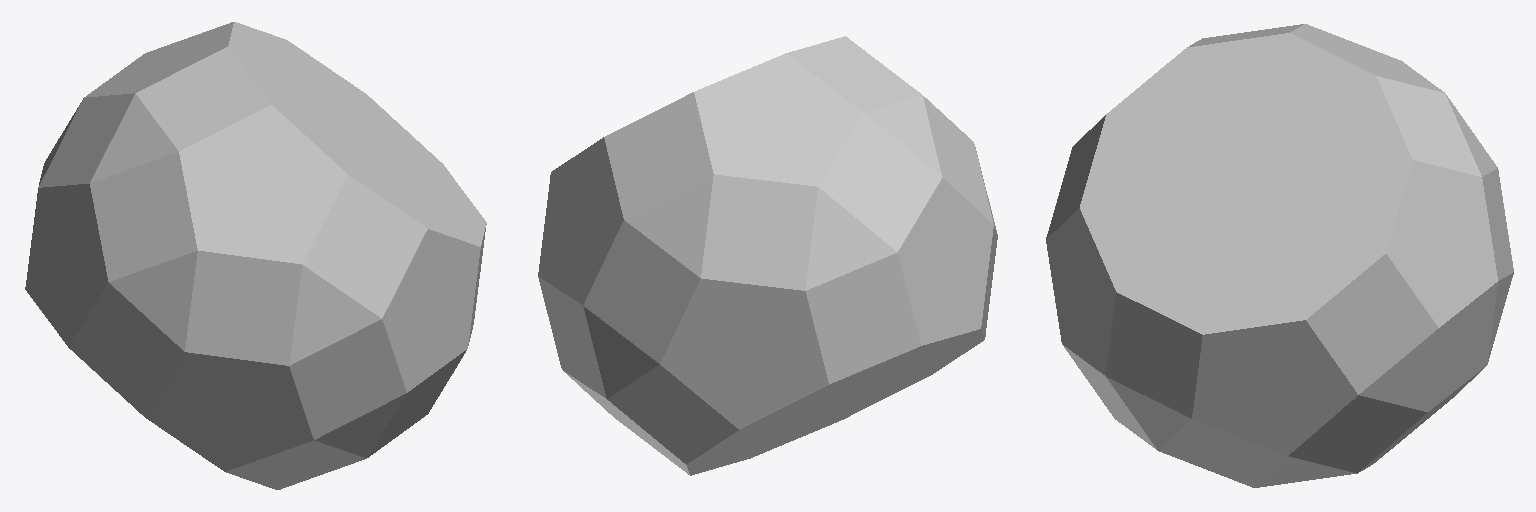
The model's file is ParabiDiminishedRhombIcosiDodecahedron.obj.
3 renders of one model, left to right at view 1: azimuth 30°, elevation 25°; view 2: azimuth 150°, elevation 25°; view 3: azimuth 270°, elevation 25°, orthographic.
Parts seen in each view (by area): view 1: ParaBiDiminishedRhombIcosiDodecahedron; view 2: ParaBiDiminishedRhombIcosiDodecahedron; view 3: ParaBiDiminishedRhombIcosiDodecahedron.
Part boxes in pixels (bbox=[...]): ParaBiDiminishedRhombIcosiDodecahedron: bbox=[25, 22, 486, 489]; ParaBiDiminishedRhombIcosiDodecahedron: bbox=[538, 36, 997, 475]; ParaBiDiminishedRhombIcosiDodecahedron: bbox=[1046, 24, 1513, 487].
Bounding box in the file's own units: 3.29 × 3.33 × 3.33.